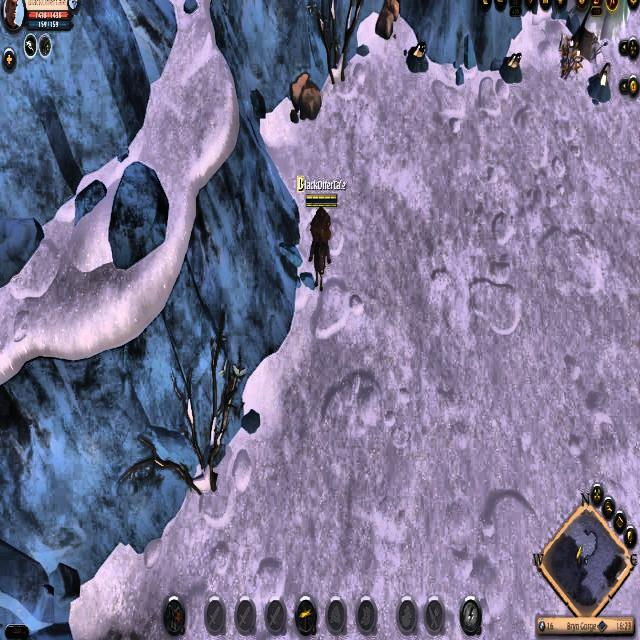copperore: (585, 60, 612, 106), (404, 38, 432, 78), (499, 48, 524, 87)
limestone: (288, 72, 324, 124), (372, 0, 403, 41)
